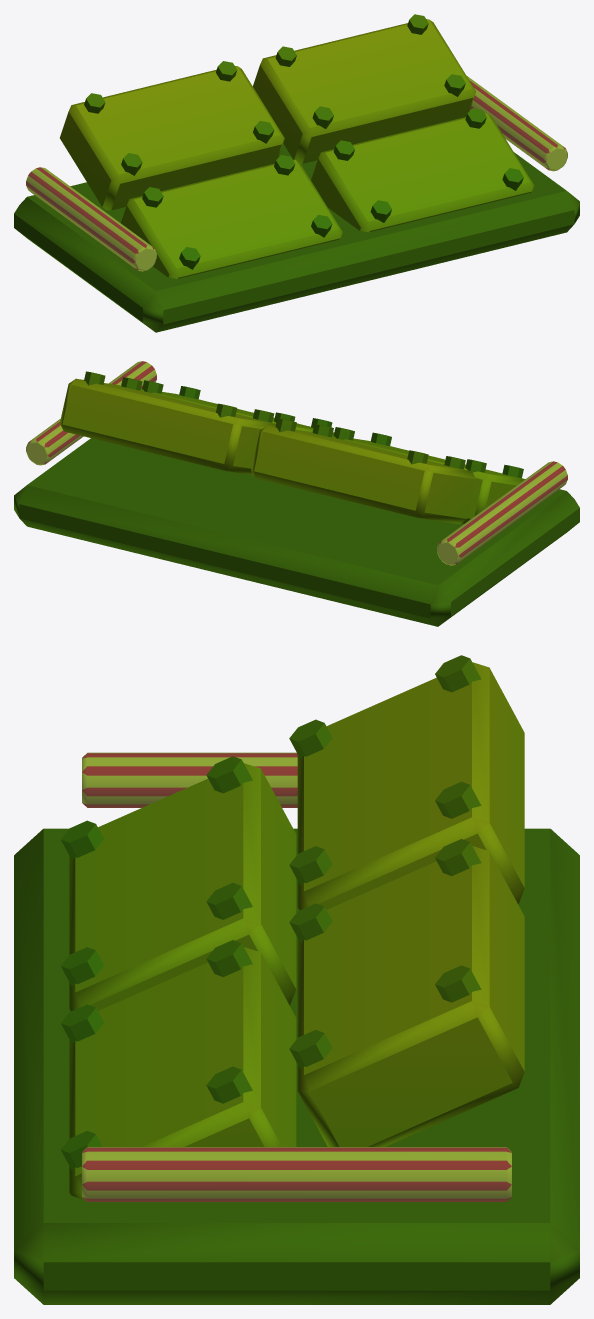
File: RCLModule_scout_tank_desert_camo.fbx
The picture shows the model from 3 angles, top to bottom: view 1: azimuth 30°, elevation 25°; view 2: azimuth 150°, elevation 25°; view 3: azimuth 270°, elevation 25°; orthographic projection. The views are drawn at different scales.
Parts seen in each view (by area): view 1: RCLModule_scout_tank_desert_camo_Batch_RCLModuleMaterial__de (×3); view 2: RCLModule_scout_tank_desert_camo_Batch_RCLModuleMaterial__de (×3); view 3: RCLModule_scout_tank_desert_camo_Batch_RCLModuleMaterial__de (×3).
Boxes of the visible parts, x1,y1,x2,y2 form: RCLModule_scout_tank_desert_camo_Batch_RCLModuleMaterial__de (×3): (14, 14, 579, 332); RCLModule_scout_tank_desert_camo_Batch_RCLModuleMaterial__de (×3): (14, 361, 579, 626); RCLModule_scout_tank_desert_camo_Batch_RCLModuleMaterial__de (×3): (14, 655, 579, 1304).
Bounding box in the file's own units: 60.5 × 19.78 × 34.5.
